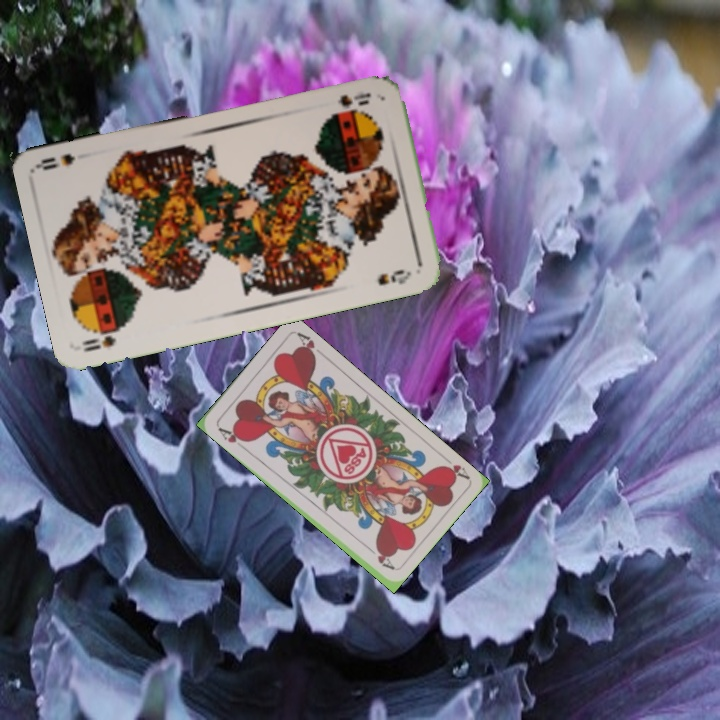HA: (214, 423, 251, 452), (437, 460, 471, 482)
SO: (78, 331, 119, 355), (335, 88, 374, 111)
